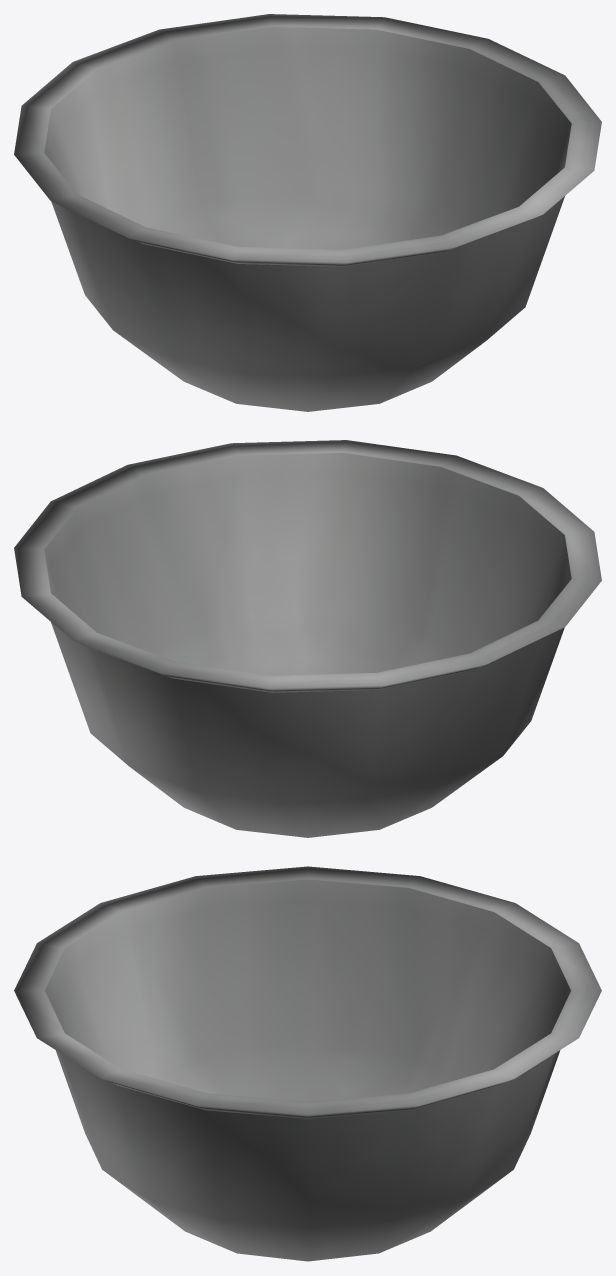
The model's file is KR_Bowl_01_03.fbx.
The picture shows the model from 3 angles, top to bottom: view 1: azimuth 30°, elevation 25°; view 2: azimuth 150°, elevation 25°; view 3: azimuth 270°, elevation 25°; orthographic projection.
Parts seen in each view (by area): view 1: kr_bowl_01_03; view 2: kr_bowl_01_03; view 3: kr_bowl_01_03.
Part boxes in pixels (x1,y1,x2,y2): kr_bowl_01_03: (14, 14, 601, 411); kr_bowl_01_03: (14, 440, 601, 837); kr_bowl_01_03: (14, 866, 601, 1261).
Bounding box in the file's own units: 24 × 10 × 24.
